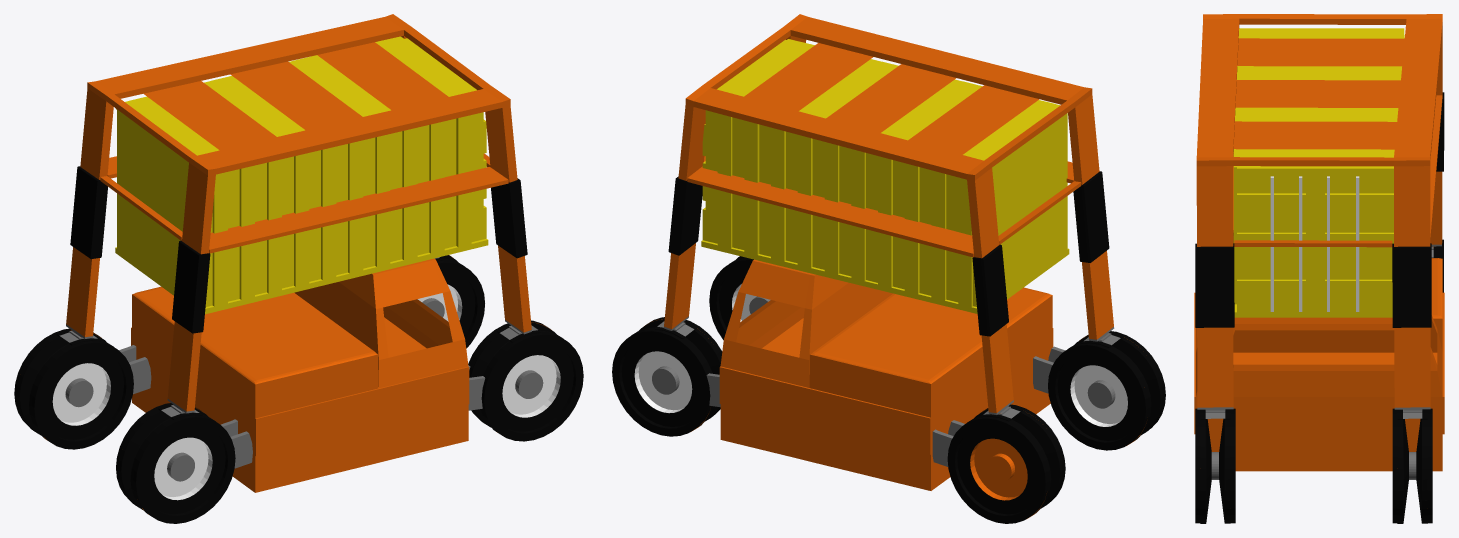
The model's file is sf-straddle.glb.
The picture shows the model from 3 angles, left to right: view 1: azimuth 30°, elevation 25°; view 2: azimuth 150°, elevation 25°; view 3: azimuth 270°, elevation 25°; orthographic projection.
Parts seen in each view (by area): view 1: Cube, Cube.001; view 2: Cube, Cube.001; view 3: Cube, Cube.001.
Part boxes in pixels (x1,y1,x2,y2): Cube: (14, 14, 583, 523); Cube.001: (115, 36, 488, 314); Cube: (612, 14, 1165, 523); Cube.001: (701, 39, 1069, 313); Cube: (1194, 14, 1444, 523); Cube.001: (1233, 28, 1404, 317).
Size of the model in its own units: 62.66 by 46.56 by 30.42.
